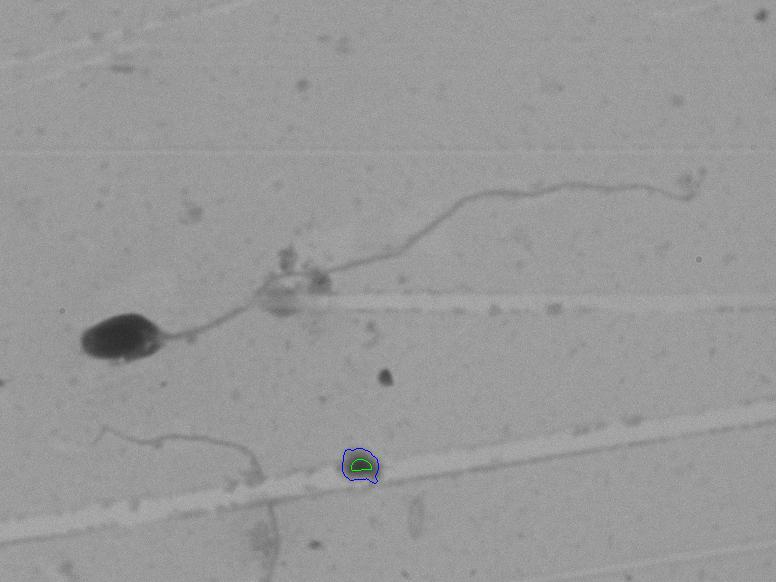Abnormal: (81, 118, 707, 378)
